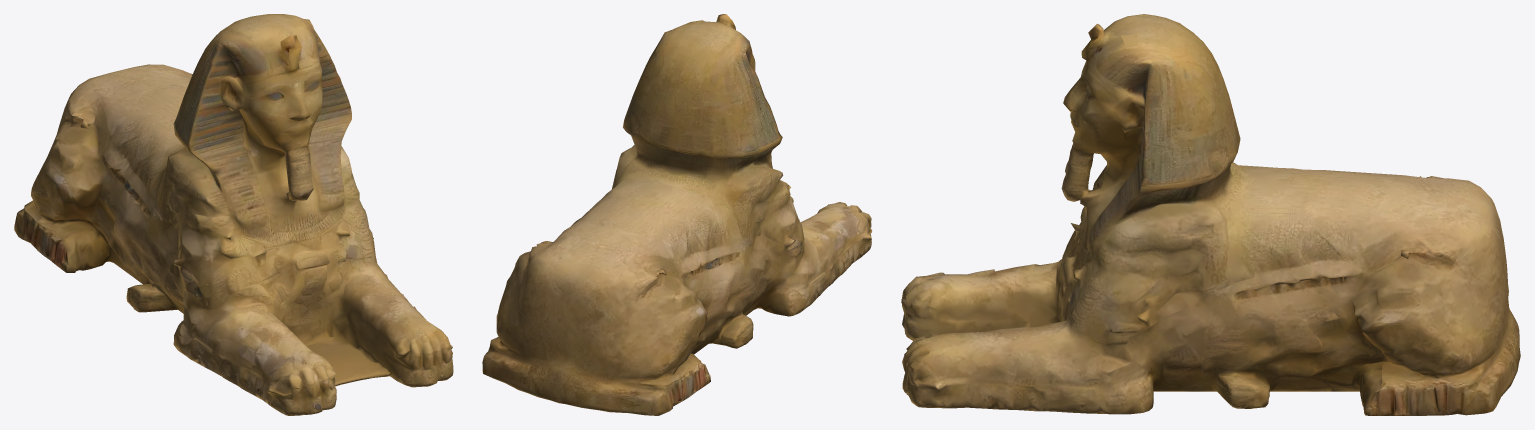
File: sphinx.glb
The picture shows the model from 3 angles, left to right: view 1: azimuth 30°, elevation 25°; view 2: azimuth 150°, elevation 25°; view 3: azimuth 270°, elevation 25°; orthographic projection. The views are drawn at different scales.
Parts seen in each view (by area): view 1: tripo_node_9bcdda52-43f4-4f24-a2b6-30d227454d42; view 2: tripo_node_9bcdda52-43f4-4f24-a2b6-30d227454d42; view 3: tripo_node_9bcdda52-43f4-4f24-a2b6-30d227454d42.
Boxes of the visible parts, <box> form: tripo_node_9bcdda52-43f4-4f24-a2b6-30d227454d42: <box>14,14,453,415</box>; tripo_node_9bcdda52-43f4-4f24-a2b6-30d227454d42: <box>482,14,872,415</box>; tripo_node_9bcdda52-43f4-4f24-a2b6-30d227454d42: <box>901,14,1520,415</box>.
Size of the model in its own units: 0.4342 by 0.6041 by 1.
1 material, 1 textured.
